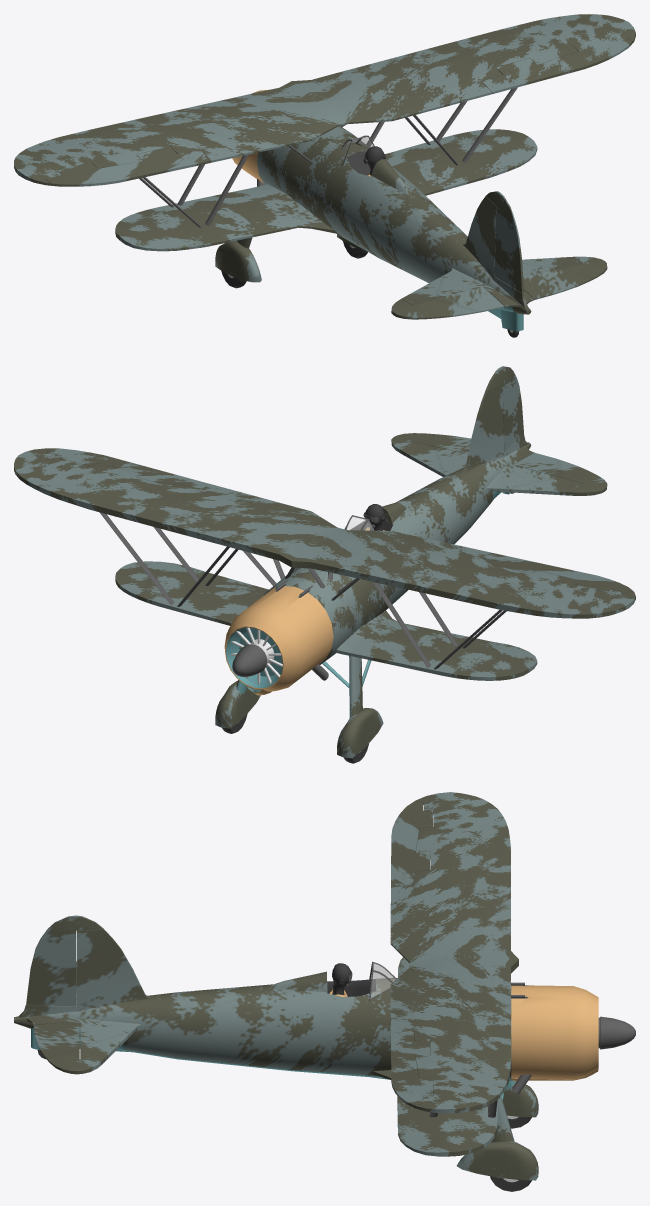
File: Cr42Falco_joined.glb
3 views of the same model, one above another, from view 1: azimuth 30°, elevation 25°; view 2: azimuth 150°, elevation 25°; view 3: azimuth 270°, elevation 25° (orthographic). The views are drawn at different scales.
Visible parts, largest first — view 1: Fuselage_110.833mps_2295kg_22.4m2; view 2: Fuselage_110.833mps_2295kg_22.4m2; view 3: Fuselage_110.833mps_2295kg_22.4m2.
Part boxes in pixels (left/top/right/bottom): Fuselage_110.833mps_2295kg_22.4m2: left=14, top=14, right=635, bottom=337; Fuselage_110.833mps_2295kg_22.4m2: left=14, top=366, right=635, bottom=763; Fuselage_110.833mps_2295kg_22.4m2: left=14, top=792, right=635, bottom=1191.
Bounding box in the file's own units: 9.7 × 3.47 × 8.04.
Materials: 7 (1 with a texture image).
